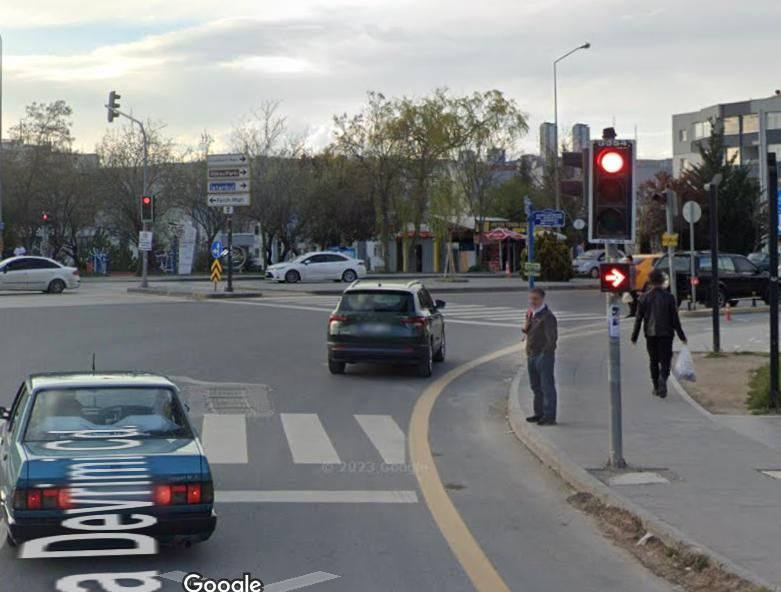redlight: (588, 140, 632, 245), (140, 192, 154, 223), (40, 211, 51, 231)
